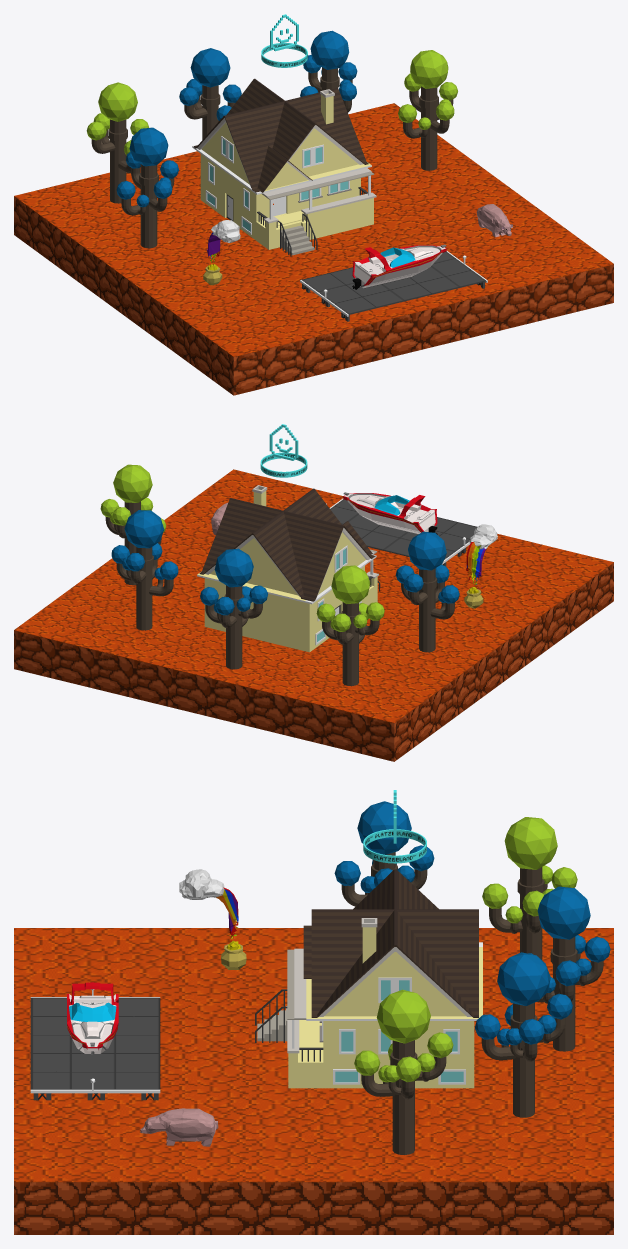
3 views of the same model, one above another, from view 1: azimuth 30°, elevation 25°; view 2: azimuth 150°, elevation 25°; view 3: azimuth 270°, elevation 25° (orthographic). The views are drawn at different scales.
Visible parts, largest first — view 1: Cube.001, Cube.1555, VEHICLES_BOAT, OBJRANDOM_RAINBOW, TYPE_PREMIUM, ANIMAL_HIPOPOTAMO; view 2: Cube.001, Cube.1555, VEHICLES_BOAT, OBJRANDOM_RAINBOW, TYPE_PREMIUM; view 3: Cube.001, Cube.1555, VEHICLES_BOAT, OBJRANDOM_RAINBOW, ANIMAL_HIPOPOTAMO, TYPE_PREMIUM.
Boxes of the visible parts, left/top/right/bottom form: Cube.001: left=14, top=30, right=613, bottom=395; Cube.1555: left=192, top=78, right=376, bottom=256; VEHICLES_BOAT: left=352, top=244, right=446, bottom=289; OBJRANDOM_RAINBOW: left=203, top=220, right=240, bottom=285; TYPE_PREMIUM: left=261, top=14, right=307, bottom=67; ANIMAL_HIPOPOTAMO: left=476, top=204, right=512, bottom=237; Cube.001: left=14, top=464, right=613, bottom=761; Cube.1555: left=197, top=485, right=380, bottom=652; VEHICLES_BOAT: left=343, top=492, right=437, bottom=534; OBJRANDOM_RAINBOW: left=464, top=524, right=497, bottom=608; TYPE_PREMIUM: left=260, top=424, right=307, bottom=477; Cube.001: left=14, top=801, right=613, bottom=1234; Cube.1555: left=255, top=869, right=482, bottom=1088; VEHICLES_BOAT: left=67, top=982, right=118, bottom=1054; OBJRANDOM_RAINBOW: left=179, top=869, right=246, bottom=969; ANIMAL_HIPOPOTAMO: left=140, top=1108, right=218, bottom=1146; TYPE_PREMIUM: left=363, top=790, right=426, bottom=863.
Size of the model in its own units: 4000 by 2562 by 4000.
40 materials, 5 textured.
